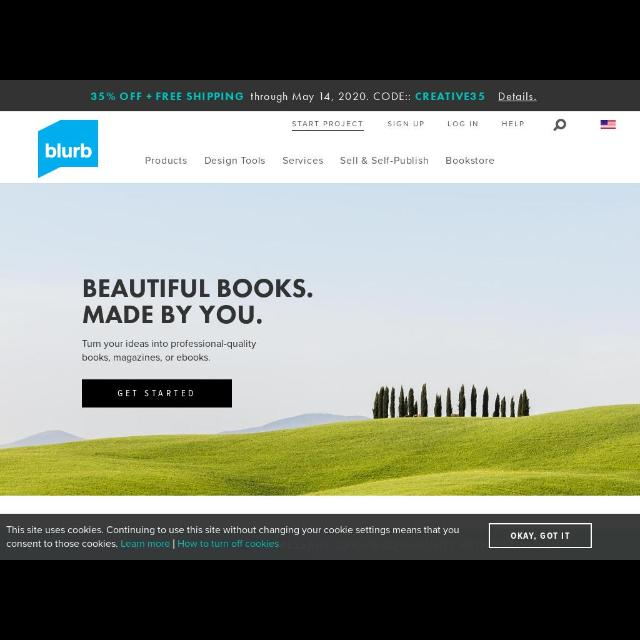backgroundimage: (1, 184, 639, 496)
icon: (554, 119, 566, 131)
image: (38, 120, 98, 178), (600, 120, 616, 128)
text: (83, 280, 313, 362), (6, 526, 460, 548), (90, 91, 536, 102), (341, 157, 429, 165), (118, 389, 194, 396), (204, 157, 266, 165), (512, 532, 568, 540), (446, 157, 496, 165), (388, 120, 424, 128), (146, 158, 187, 165), (292, 122, 362, 126), (283, 158, 323, 165), (448, 121, 478, 127), (502, 120, 524, 128)
textbutton: (82, 380, 232, 408), (488, 524, 592, 548)
toolbar: (1, 111, 639, 182)
